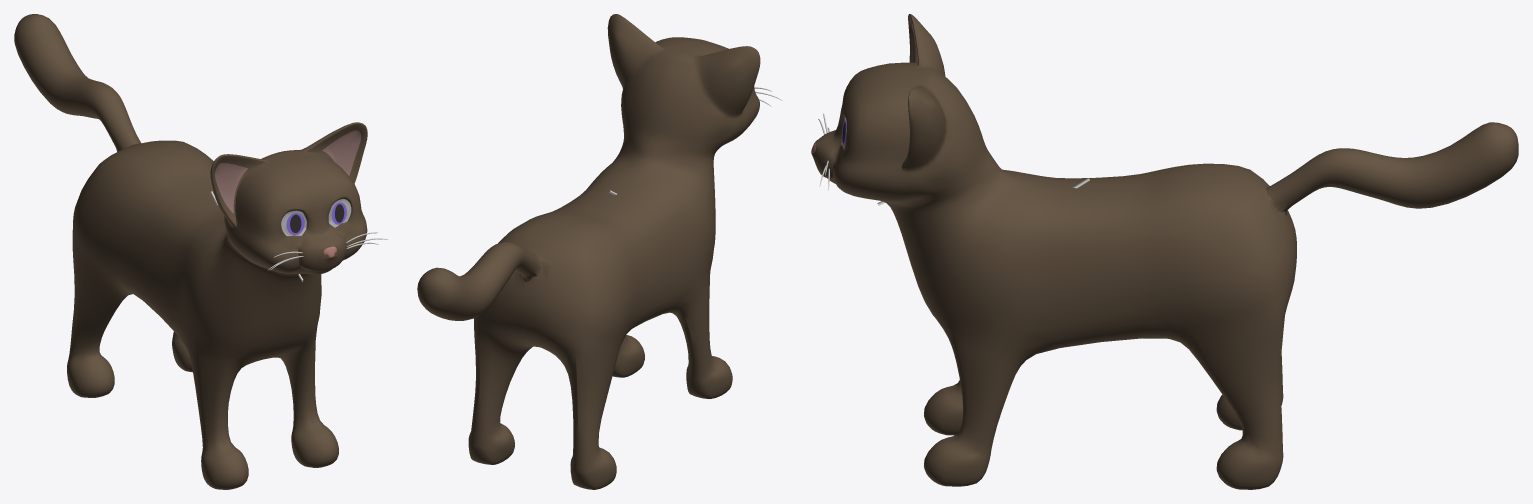
The model's file is cat.fbx.
3 views of the same model, side by side, from view 1: azimuth 30°, elevation 25°; view 2: azimuth 150°, elevation 25°; view 3: azimuth 270°, elevation 25° (orthographic). The views are drawn at different scales.
Visible parts, largest first — view 1: Cube.001; view 2: Cube.001; view 3: Cube.001.
Boxes of the visible parts, x1=… form: Cube.001: x1=14, y1=14, x2=367, y2=489; Cube.001: x1=417, y1=14, x2=760, y2=489; Cube.001: x1=811, y1=14, x2=1518, y2=489.
Size of the model in its own units: 22.61 by 47.89 by 76.68.
